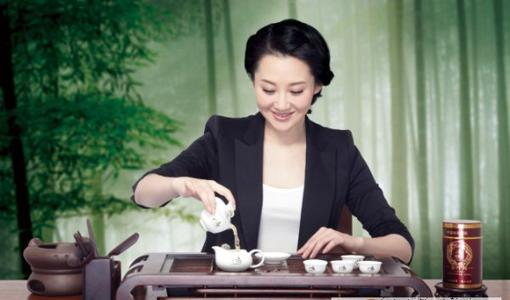person: (132, 19, 417, 268)
